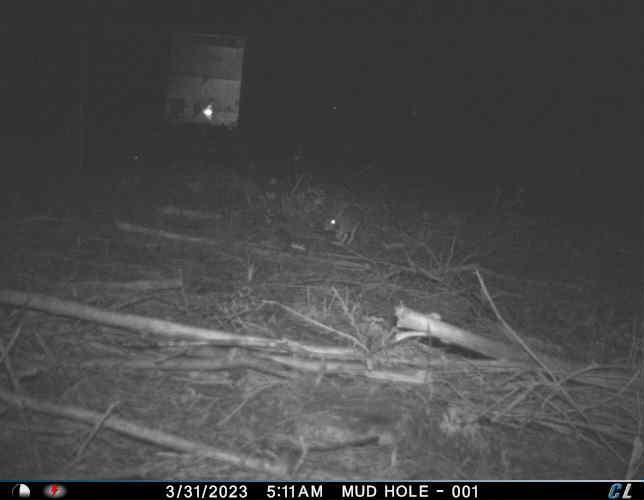Rabbit: (322, 196, 366, 247)
